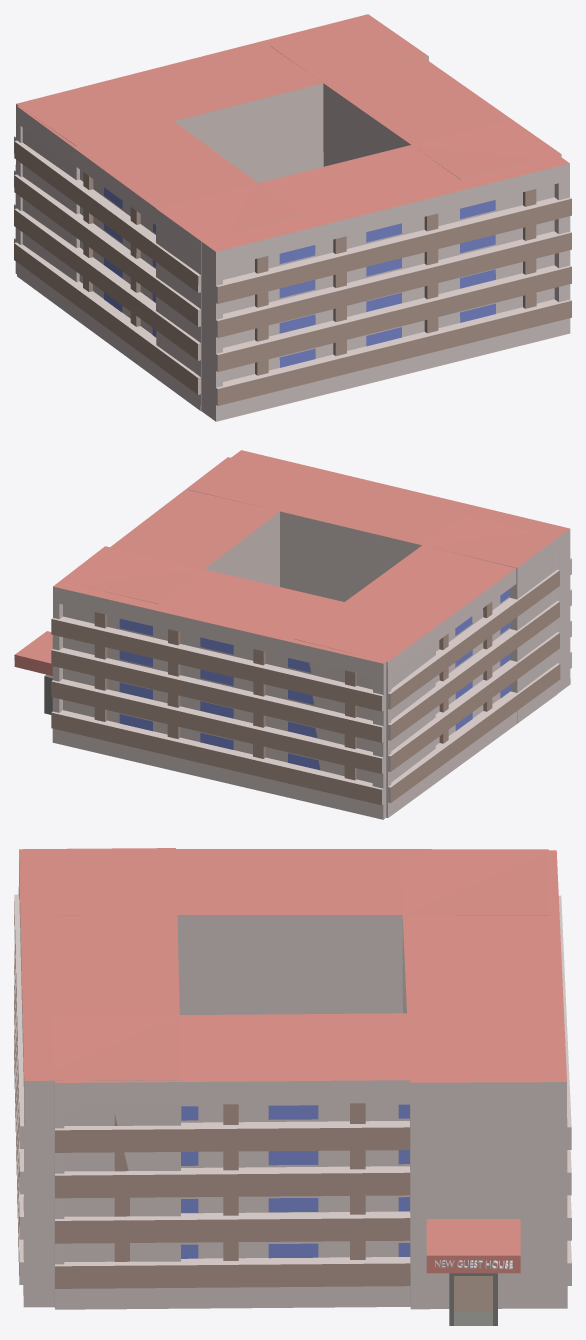
Rendered from newguest.glb.
3 views of the same model, one above another, from view 1: azimuth 30°, elevation 25°; view 2: azimuth 150°, elevation 25°; view 3: azimuth 270°, elevation 25° (orthographic). The views are drawn at different scales.
Visible parts, largest first — view 1: Cube.002; view 2: Cube.002; view 3: Cube.002.
Part boxes in pixels (x1=…): Cube.002: x1=14, y1=14, x2=571, y2=421; Cube.002: x1=14, y1=450, x2=571, y2=819; Cube.002: x1=14, y1=848, x2=571, y2=1325.
Bounding box in the file's own units: 18.42 × 7.07 × 15.74.
